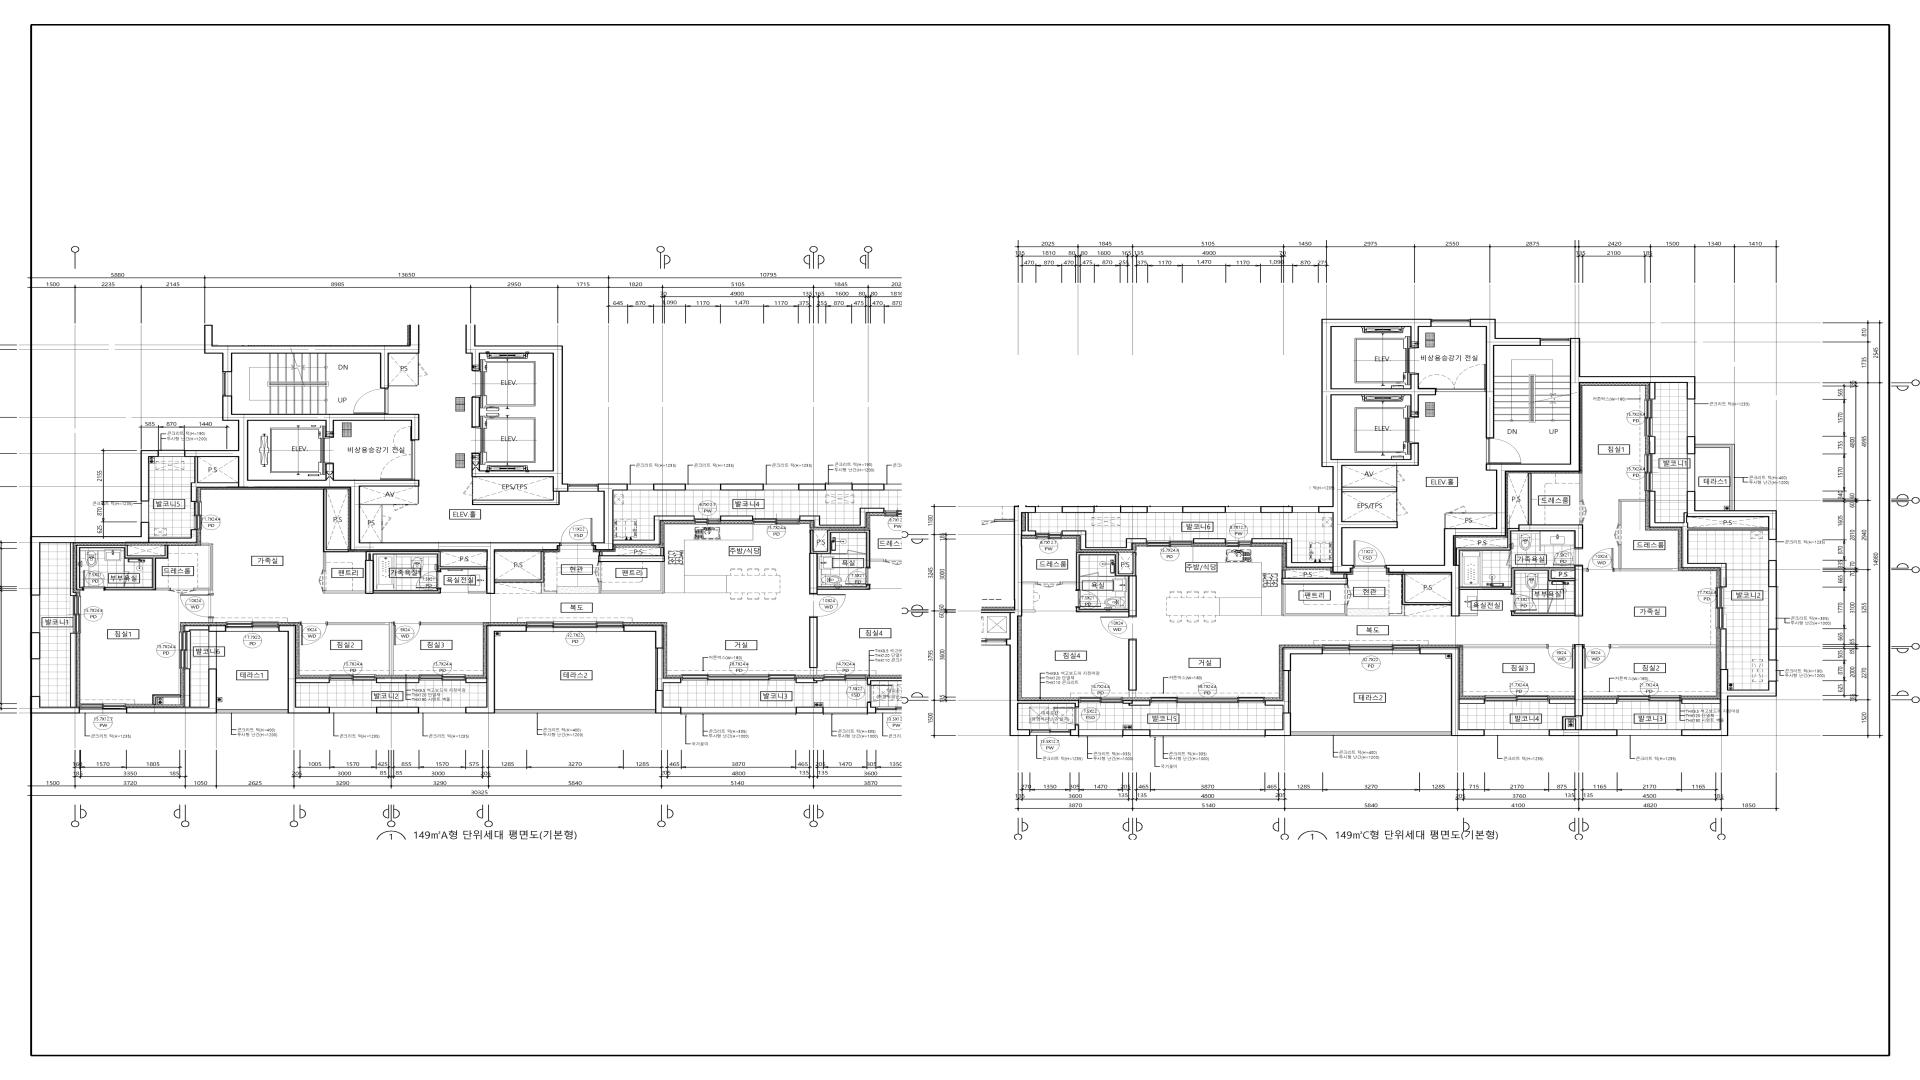door: (380, 439, 415, 480), (1436, 364, 1486, 392), (179, 595, 214, 622), (1486, 438, 1522, 464), (560, 518, 593, 546), (353, 389, 389, 414), (1100, 616, 1137, 640), (1354, 541, 1386, 568), (810, 593, 847, 617), (299, 622, 327, 646), (1547, 645, 1575, 669), (393, 622, 421, 646), (1588, 549, 1614, 572), (1584, 645, 1610, 669), (1553, 549, 1584, 566), (82, 570, 105, 591), (225, 622, 278, 632), (1075, 589, 1101, 608), (415, 571, 442, 589), (1511, 593, 1536, 612), (845, 567, 870, 585), (1054, 708, 1079, 725), (868, 686, 893, 702), (208, 632, 216, 669), (1396, 498, 1408, 516), (831, 550, 866, 555), (1035, 582, 1063, 588), (884, 559, 911, 566), (170, 588, 195, 595), (1614, 525, 1622, 545), (1344, 584, 1352, 604), (1580, 501, 1588, 521), (463, 481, 473, 496), (381, 516, 392, 530), (124, 559, 129, 587), (1449, 505, 1466, 513), (319, 571, 326, 591), (418, 363, 427, 376), (595, 563, 601, 582), (1396, 469, 1406, 483), (394, 504, 409, 512), (1506, 551, 1511, 567), (1548, 597, 1553, 613), (1080, 572, 1100, 576)
wall: (1386, 338, 1696, 617), (185, 396, 560, 595), (1319, 319, 1436, 574), (1266, 647, 1485, 736), (465, 324, 568, 505), (868, 484, 945, 713), (1009, 506, 1079, 736), (204, 324, 419, 389), (30, 522, 196, 596), (1456, 473, 1584, 564), (1648, 492, 1768, 587), (1687, 436, 1778, 539), (1470, 319, 1540, 438), (323, 551, 487, 593), (592, 484, 695, 550), (1460, 566, 1588, 617), (1681, 670, 1778, 736), (1549, 645, 1617, 729), (465, 625, 526, 713), (624, 625, 682, 713), (810, 530, 884, 593), (1063, 553, 1137, 616), (278, 625, 330, 713), (76, 545, 170, 591), (125, 669, 216, 713), (30, 633, 80, 713), (1265, 647, 1323, 713), (327, 622, 393, 675), (599, 547, 665, 593), (1282, 570, 1348, 616), (495, 551, 556, 593), (1389, 574, 1451, 616), (1251, 538, 1332, 568), (323, 489, 349, 571), (1614, 545, 1679, 571), (799, 508, 885, 527), (1062, 530, 1146, 550), (194, 543, 214, 595), (141, 451, 158, 501), (1618, 500, 1646, 525), (810, 617, 818, 675), (1129, 640, 1137, 698), (1549, 729, 1618, 736), (1610, 645, 1717, 649), (360, 504, 393, 516), (70, 543, 76, 596), (1462, 645, 1547, 649), (1720, 629, 1727, 670), (389, 376, 419, 386), (1022, 513, 1035, 535), (1768, 629, 1778, 661), (183, 625, 227, 632), (376, 707, 419, 713), (720, 484, 764, 491), (30, 633, 41, 659), (1183, 506, 1225, 513), (152, 695, 181, 704), (1768, 560, 1778, 587), (472, 397, 480, 427), (376, 678, 419, 683), (1062, 506, 1095, 513), (852, 484, 885, 491), (653, 484, 686, 491), (1261, 506, 1292, 513), (1681, 699, 1720, 704), (409, 487, 419, 505), (795, 707, 824, 713), (1120, 506, 1147, 513), (798, 484, 825, 491), (720, 516, 753, 521), (1124, 729, 1150, 736), (1193, 538, 1225, 543), (421, 622, 483, 625), (795, 678, 824, 683), (1122, 700, 1150, 705), (1648, 382, 1656, 400), (1460, 699, 1485, 704), (1650, 436, 1656, 454), (866, 703, 876, 713), (1069, 725, 1079, 736), (1580, 473, 1582, 501), (468, 591, 487, 593), (1460, 613, 1478, 616), (911, 559, 924, 562), (1022, 609, 1035, 612), (1022, 582, 1035, 584), (911, 588, 924, 589), (381, 530, 382, 542), (418, 353, 419, 363), (472, 477, 473, 481), (472, 496, 473, 500)
window: (1150, 729, 1266, 738), (1150, 698, 1265, 705), (1323, 645, 1420, 654), (526, 622, 624, 632), (682, 707, 796, 713), (682, 675, 795, 680), (1617, 695, 1681, 704), (1485, 695, 1549, 704), (1716, 587, 1727, 629), (1644, 454, 1656, 492), (1768, 587, 1779, 629), (179, 632, 191, 669), (1644, 400, 1656, 436), (1146, 538, 1193, 547), (79, 704, 127, 713), (1485, 729, 1549, 736), (1618, 729, 1681, 736), (1079, 729, 1124, 738), (70, 596, 80, 633), (1687, 454, 1696, 491), (1687, 400, 1696, 436), (30, 596, 40, 633), (30, 659, 40, 696), (753, 518, 799, 525), (330, 707, 376, 713), (419, 674, 465, 680), (1432, 319, 1470, 327), (824, 707, 868, 713), (876, 707, 916, 713), (1030, 729, 1069, 736), (1225, 538, 1251, 547), (1035, 530, 1062, 539), (419, 708, 465, 713), (330, 675, 376, 680), (1540, 338, 1571, 345), (823, 675, 868, 680), (1147, 506, 1183, 513), (1225, 506, 1261, 513), (194, 501, 202, 530), (568, 484, 597, 492), (1079, 698, 1122, 703), (686, 484, 720, 491), (764, 484, 798, 491), (1768, 661, 1779, 682), (223, 372, 232, 396), (1768, 539, 1778, 560), (825, 484, 852, 491), (1035, 506, 1062, 513), (1292, 506, 1319, 513), (141, 501, 149, 522), (885, 510, 910, 517), (885, 484, 910, 491), (1095, 506, 1120, 513), (695, 518, 720, 525), (628, 484, 653, 491), (158, 451, 185, 456)
